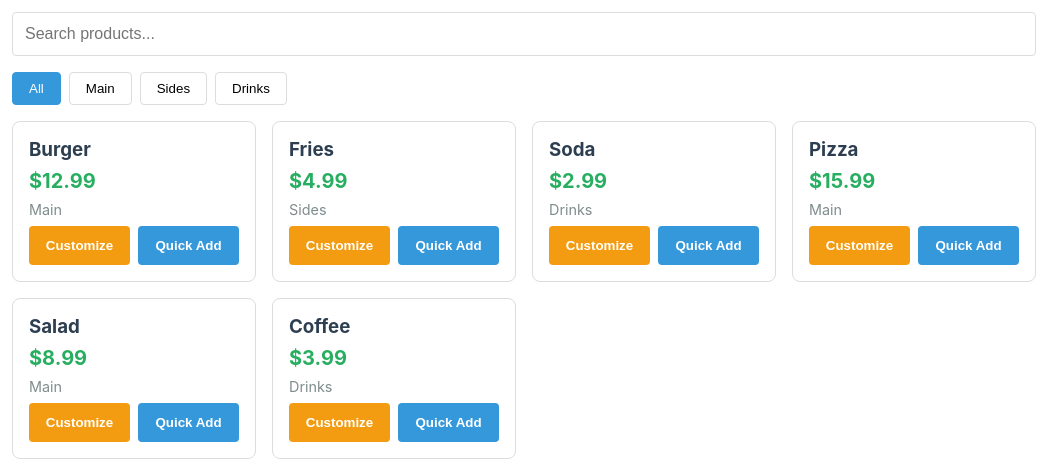
ProductCatalog Component › filters products by category
Expected: the heading "Burger" is shown, [29,138,91,161]
Click the button "Sides" at (173, 88), box [140,72,207,105]
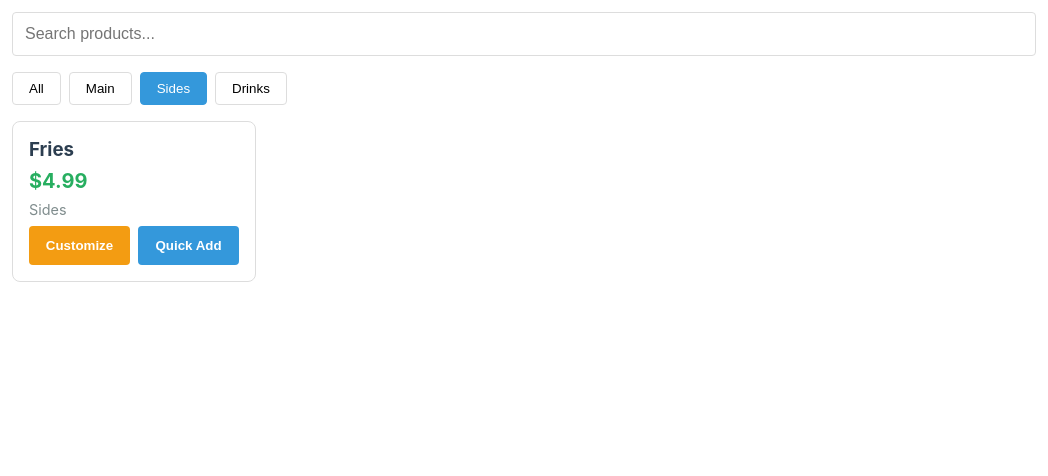
Expected: the heading "Fries" is shown, [29,138,74,161]
Expected: the heading "Burger" is gone
